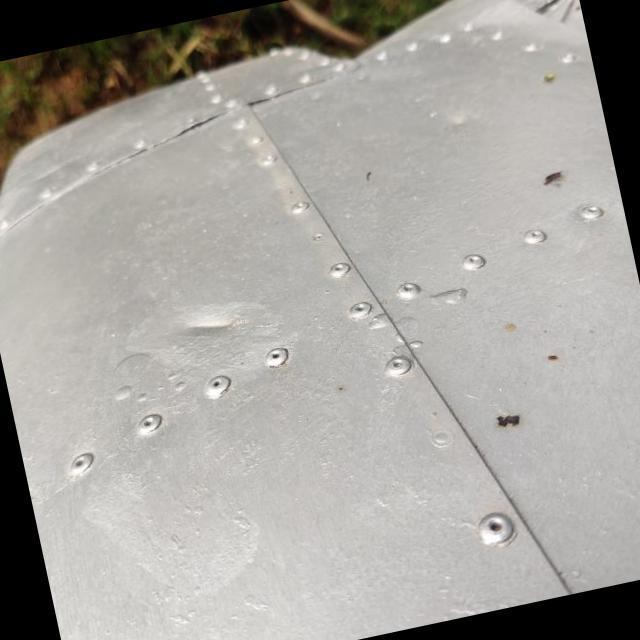dent: (172, 292, 256, 358)
